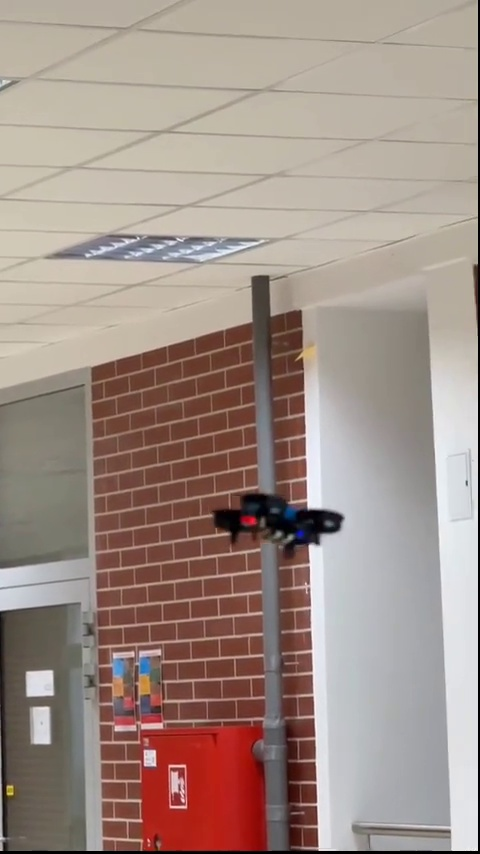drone: (211, 493, 338, 555)
